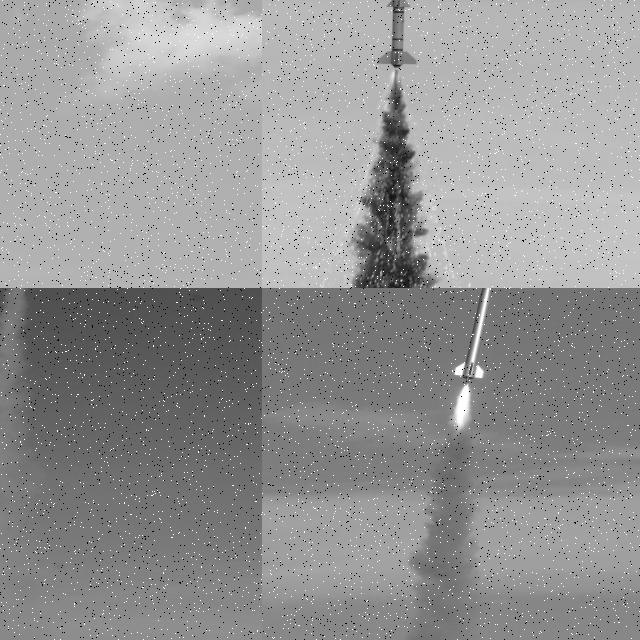Rocket: (453, 288, 493, 379), (376, 0, 417, 69)
